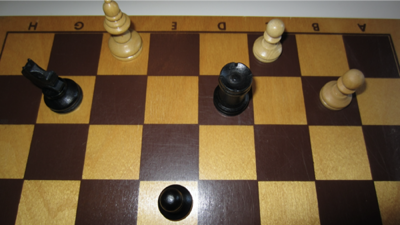black-knight: (21, 58, 84, 116)
black-pawn: (158, 185, 194, 222)
black-rook: (213, 61, 254, 117)
white-bishop: (103, 1, 145, 62)
white-pawn: (319, 69, 366, 111), (253, 19, 286, 63)
